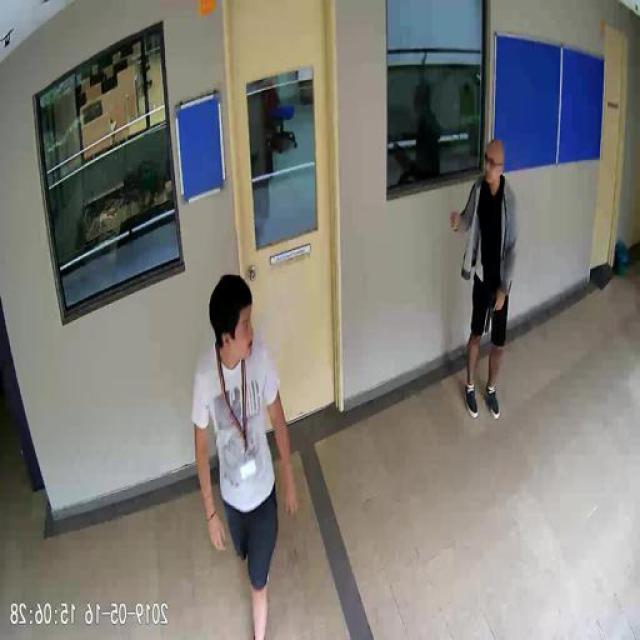weapon: (484, 290, 506, 332)
